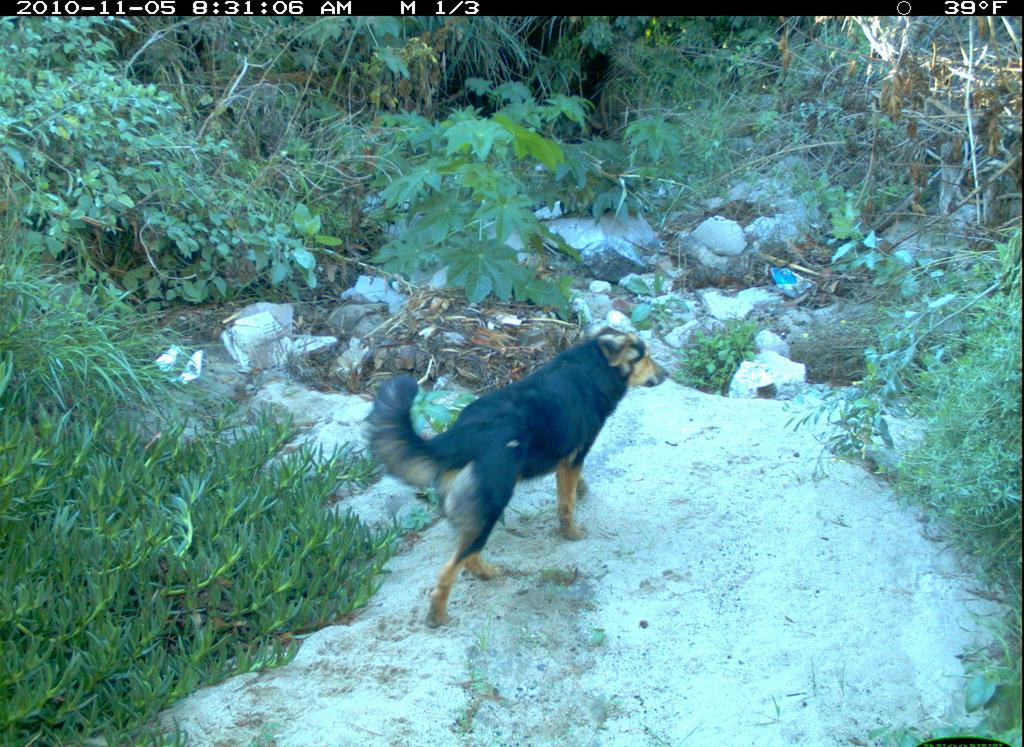dog: (350, 308, 667, 635)
